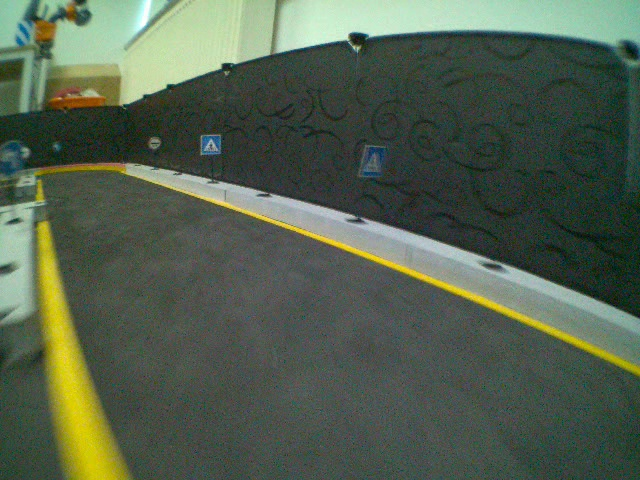Check: (146, 135, 161, 151)
crossing: (358, 143, 386, 181), (199, 132, 223, 156)
